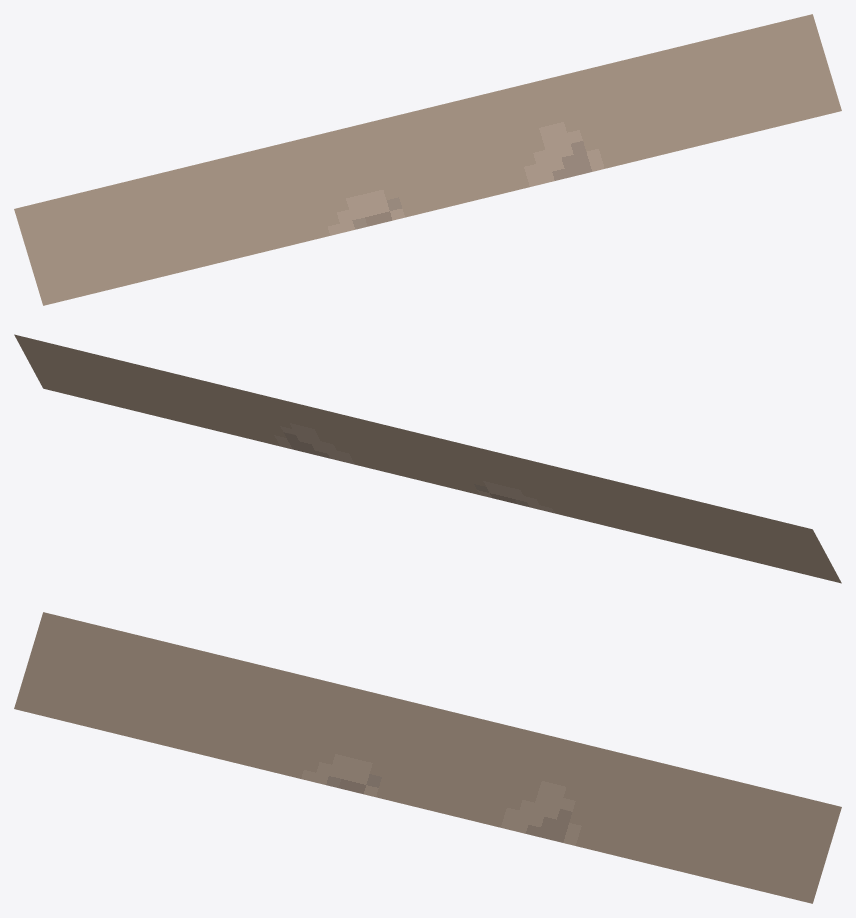
The model's file is kd_stage_135b75_4_51_bounded_portal_piece_0.glb.
3 renders of one model, top to bottom at view 1: azimuth 30°, elevation 25°; view 2: azimuth 150°, elevation 25°; view 3: azimuth 330°, elevation 25°, orthographic.
Parts seen in each view (by area): view 1: kd_stage_135b75_4_51_bounded_portal_piece_0; view 2: kd_stage_135b75_4_51_bounded_portal_piece_0; view 3: kd_stage_135b75_4_51_bounded_portal_piece_0.
Part boxes in pixels (x1=…): kd_stage_135b75_4_51_bounded_portal_piece_0: x1=14, y1=14, x2=841, y2=305; kd_stage_135b75_4_51_bounded_portal_piece_0: x1=14, y1=334, x2=841, y2=583; kd_stage_135b75_4_51_bounded_portal_piece_0: x1=14, y1=612, x2=841, y2=903.
Size of the model in its own units: 0.2 by 0.0181 by 0.0127.
1 material, 1 textured.
